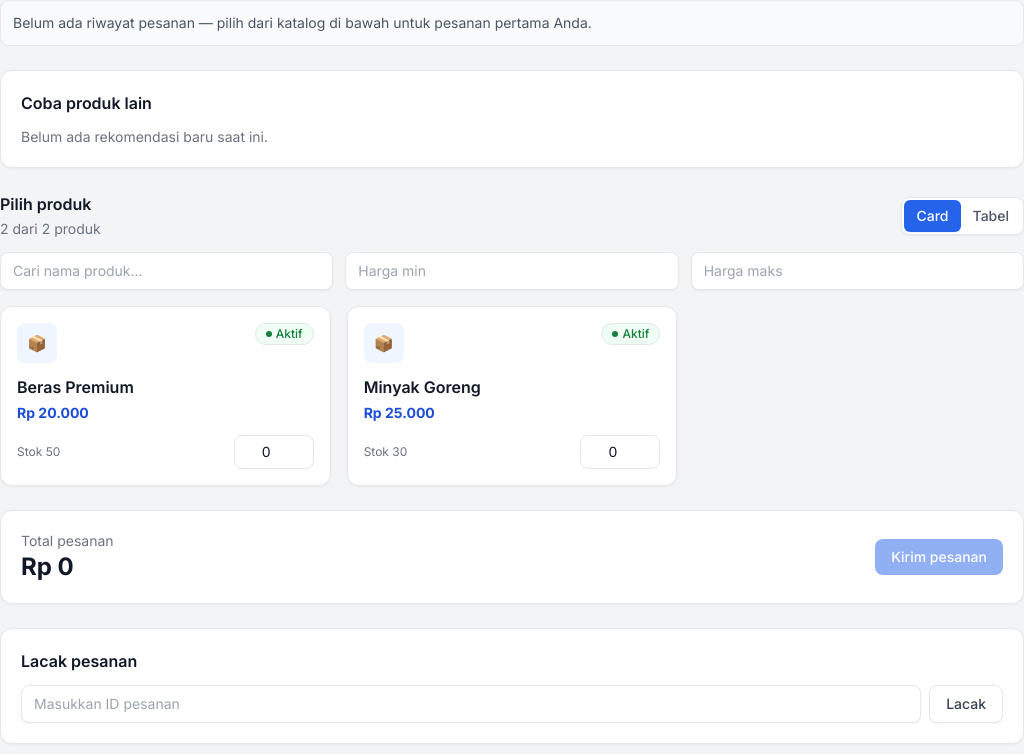
Test: OrderForm — data-testid contract › exposes order-success after creating an order
The image size is (1024, 754).
Expected: the heading "Beras Premium" is shown, [17,377,134,397]
Add quantities then submit — this triggers the order-success block
Replace the text in the number field named "Jumlah " with "2" at (274, 452), box [234,435,314,469]
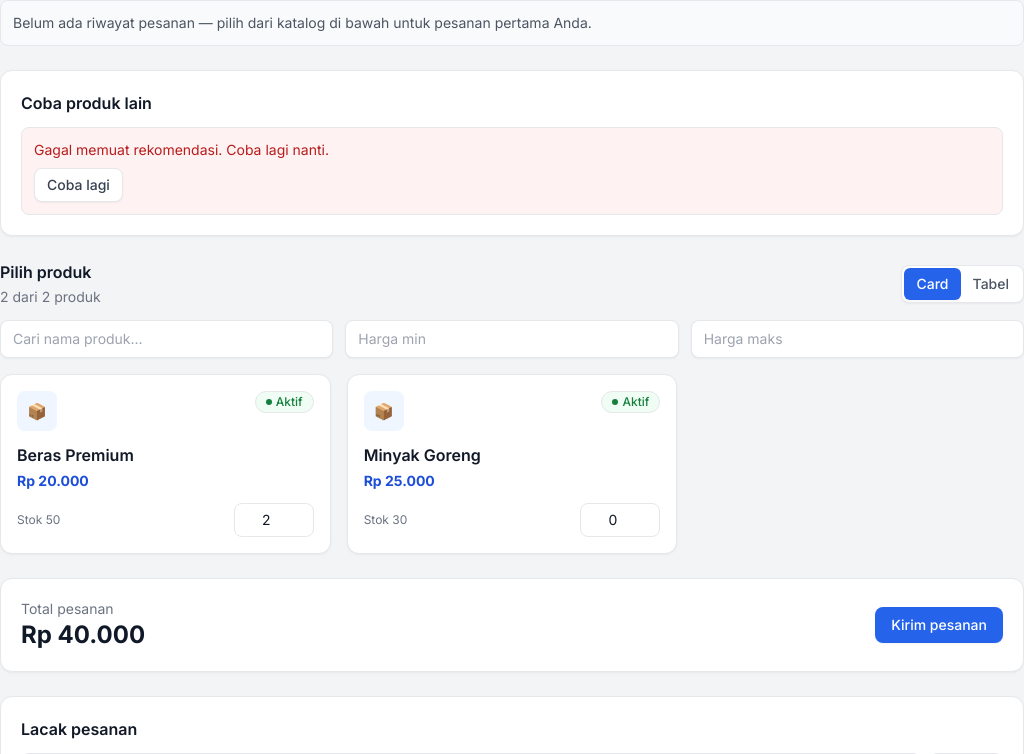
Replace the text in the number field named "Jumlah " with "1" at (620, 520), box [580,503,660,537]
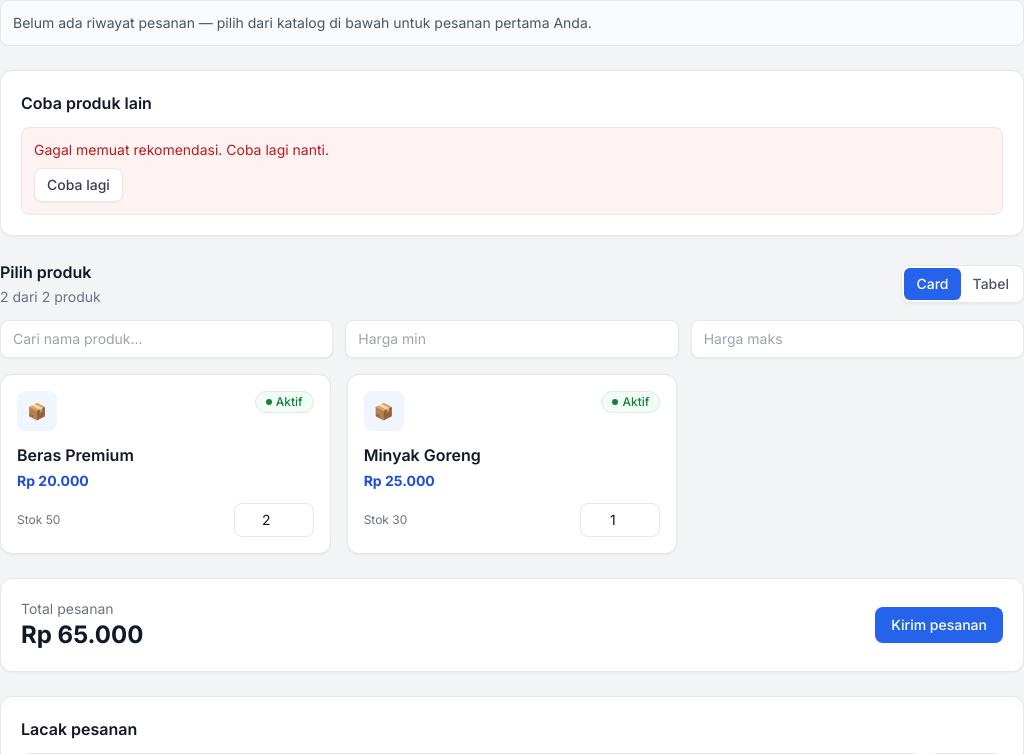
Click the button with test id "order-submit" at (939, 625), box [875,607,1003,643]
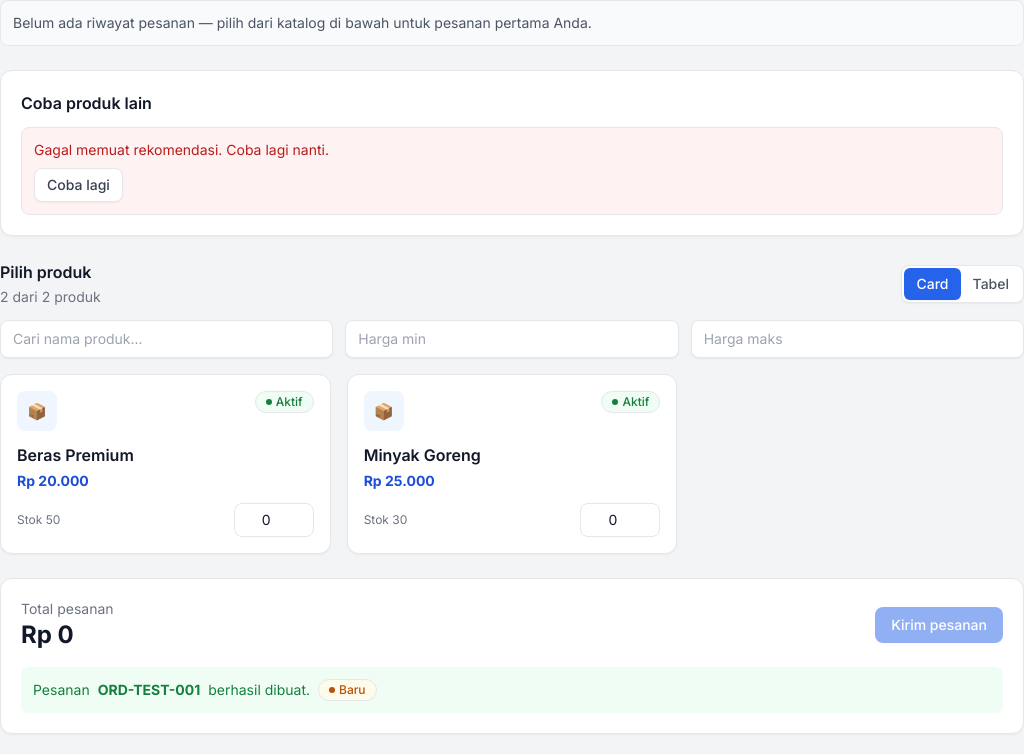
Expected: the element with test id "order-success" shows "ORD-TEST-001", [98,681,200,698]
